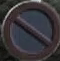No waiting: (3, 2, 55, 54)
